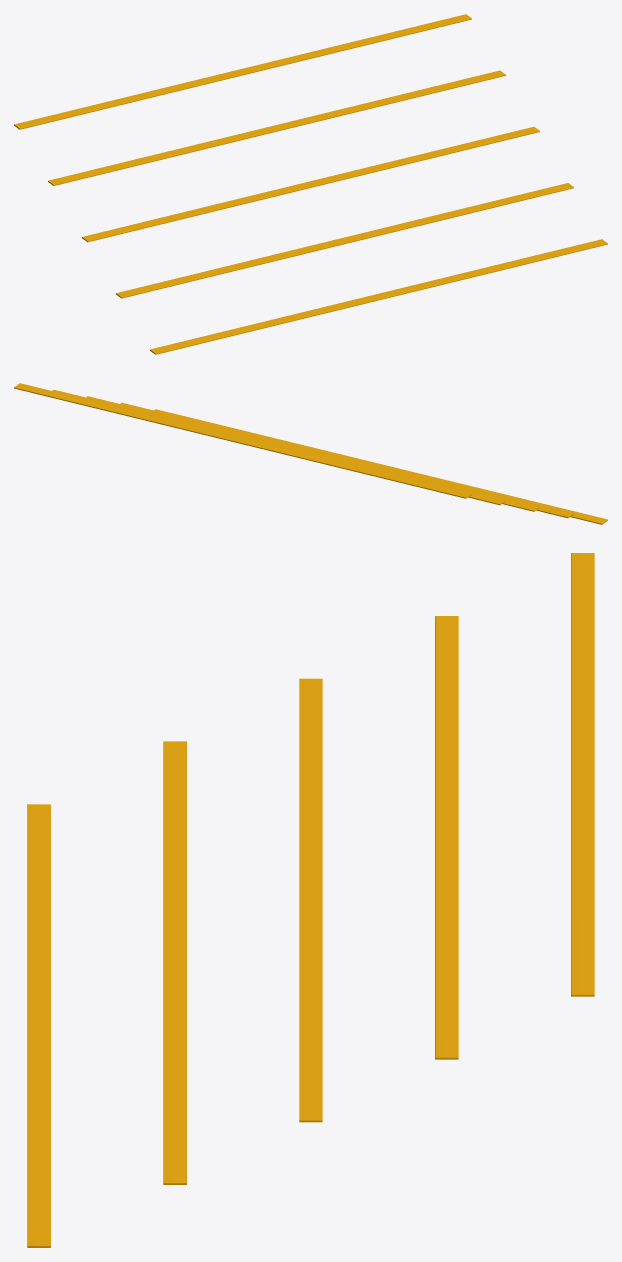
File: gteki_ik_stair_n5_r161_t316_w2445_nosing.glb
3 renders of one model, top to bottom at view 1: azimuth 30°, elevation 25°; view 2: azimuth 150°, elevation 25°; view 3: azimuth 270°, elevation 25°, orthographic. The views are drawn at different scales.
Parts seen in each view (by area): view 1: VIS_nosings; view 2: VIS_nosings; view 3: VIS_nosings.
Part boxes in pixels (bbox=[...]): VIS_nosings: bbox=[14, 14, 607, 354]; VIS_nosings: bbox=[14, 383, 607, 524]; VIS_nosings: bbox=[27, 553, 594, 1247].
Bounding box in the file's own units: 2.43 × 0.65 × 1.32.
